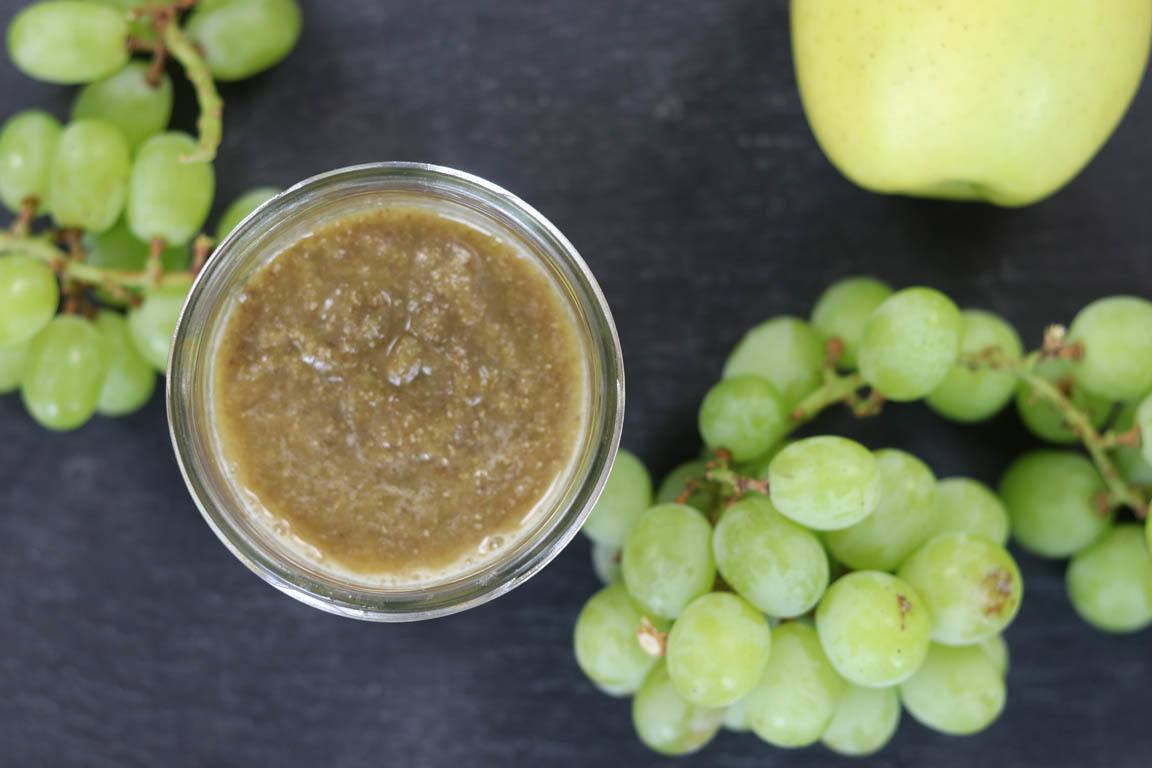Green grapes: (745, 283, 1152, 634), (626, 468, 1017, 768), (3, 6, 208, 417)
